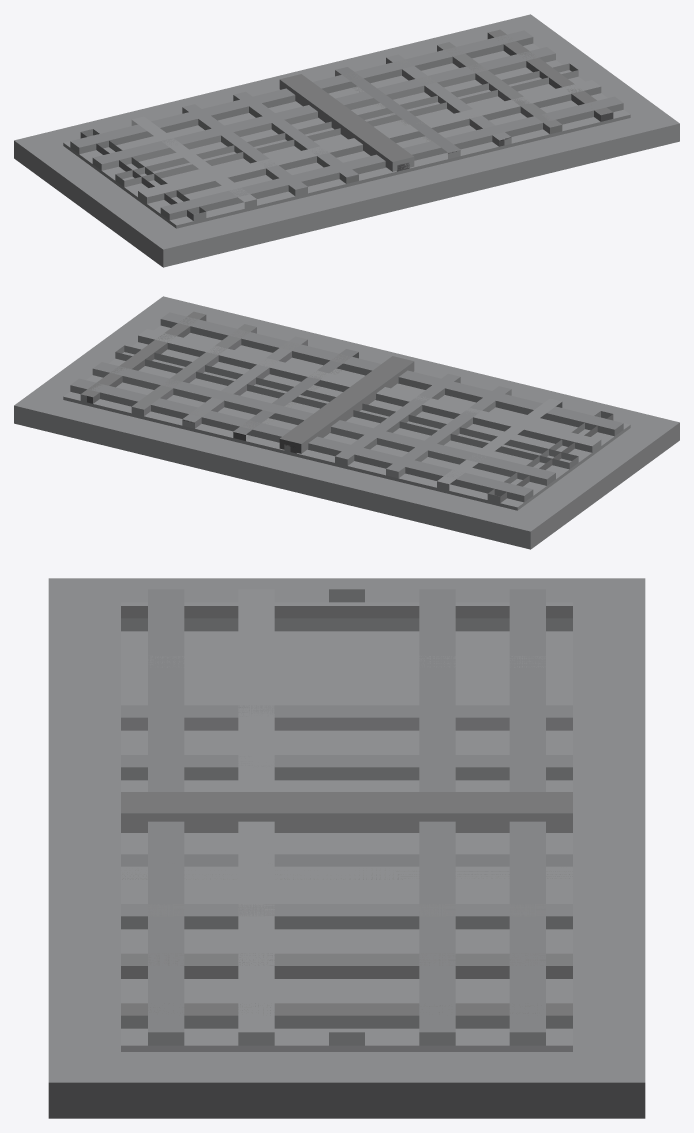
3 views of the same model, one above another, from view 1: azimuth 30°, elevation 25°; view 2: azimuth 150°, elevation 25°; view 3: azimuth 270°, elevation 25° (orthographic). The views are drawn at different scales.
Size of the model in its own units: 0.66 by 0.039 by 0.33.
